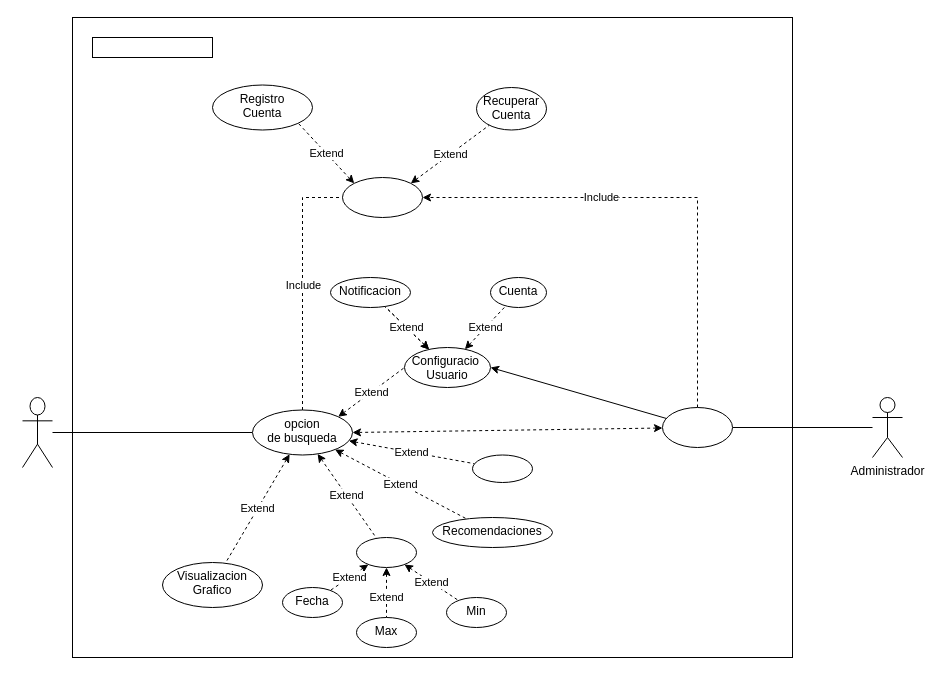
Some shapes in this 942 by 675 pixel diagram are drawn without their labels. Here are the shapes that lost their labels. From the top down, the box of each, then its label:
(92, 36, 212, 58): Hidro Smart
(342, 176, 422, 218): Inicio Sesión
(22, 396, 52, 468): Usuario
(662, 406, 732, 448): Control Gestion
(472, 454, 532, 482): Alertas
(356, 536, 416, 568): Historial
